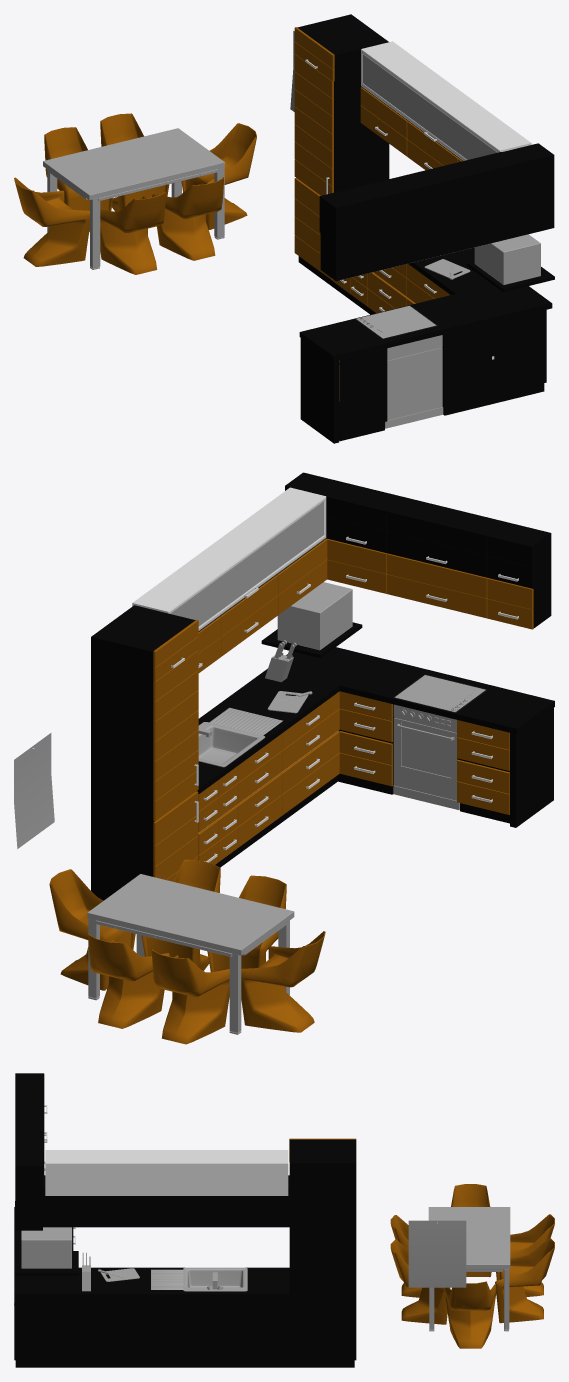
The model's file is apartament_kitchen.fbx.
3 views of the same model, one above another, from view 1: azimuth 30°, elevation 25°; view 2: azimuth 150°, elevation 25°; view 3: azimuth 270°, elevation 25° (orthographic). The views are drawn at different scales.
Parts seen in each view (by area): view 1: kitchen_obj; view 2: kitchen_obj; view 3: kitchen_obj.
Part boxes in pixels (x1,y1,x2,y2): kitchen_obj: (14,14,554,443); kitchen_obj: (14,472,554,1044); kitchen_obj: (14,1073,554,1367).
Size of the model in its own units: 284 by 232 by 552.
